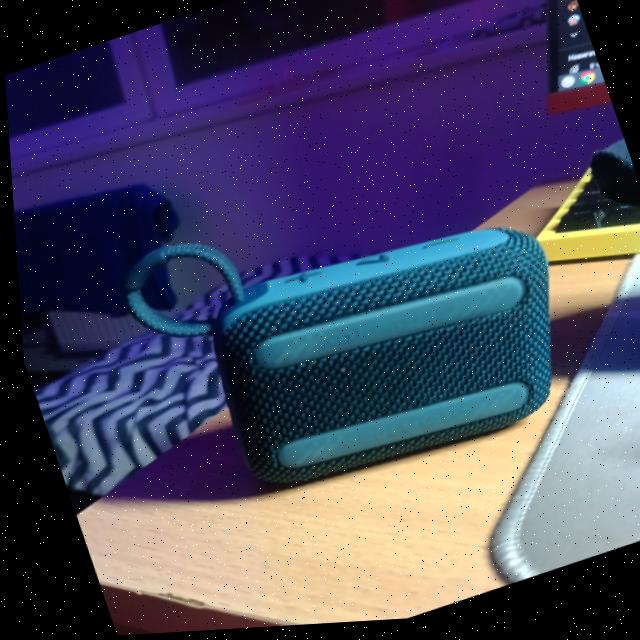column JBL: (63, 129, 584, 550)
